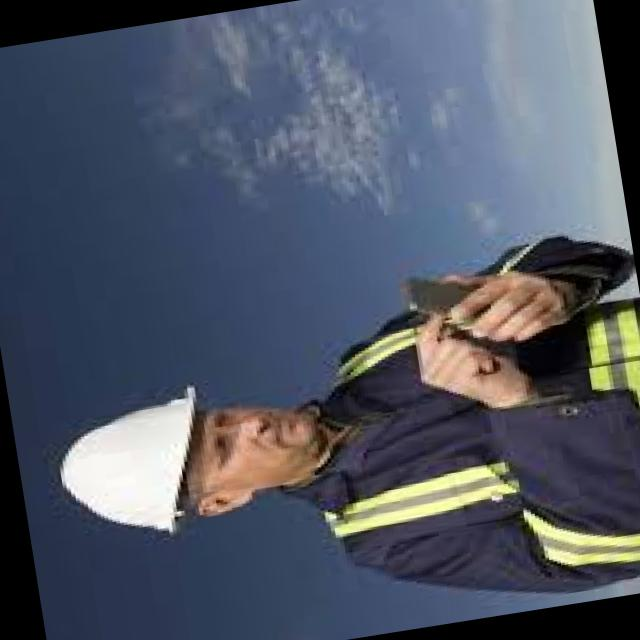not-gloved: (399, 308, 529, 424), (438, 256, 576, 358)
